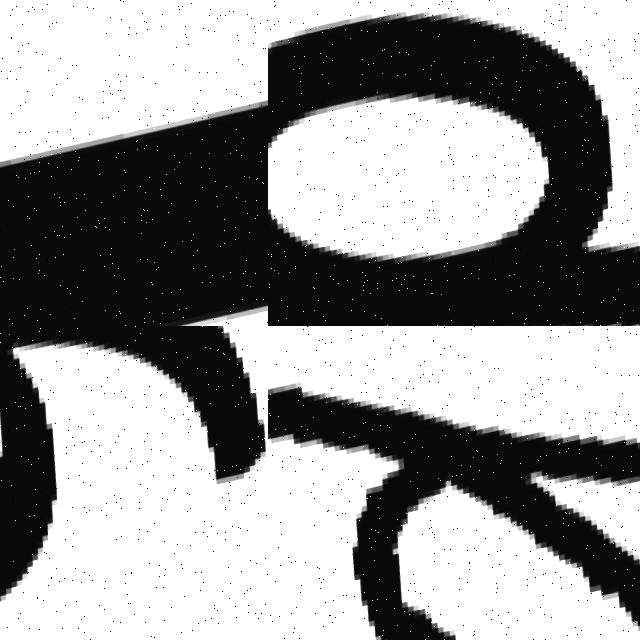9: (0, 326, 268, 640)
D: (268, 326, 640, 640)
I: (0, 79, 268, 326)
P: (268, 13, 640, 326)
